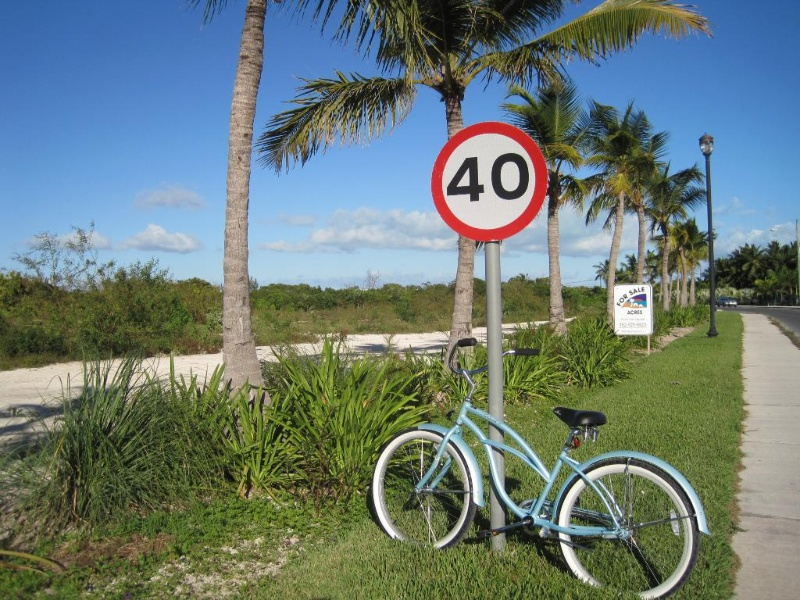speed_limit_40: (431, 126, 558, 247)
